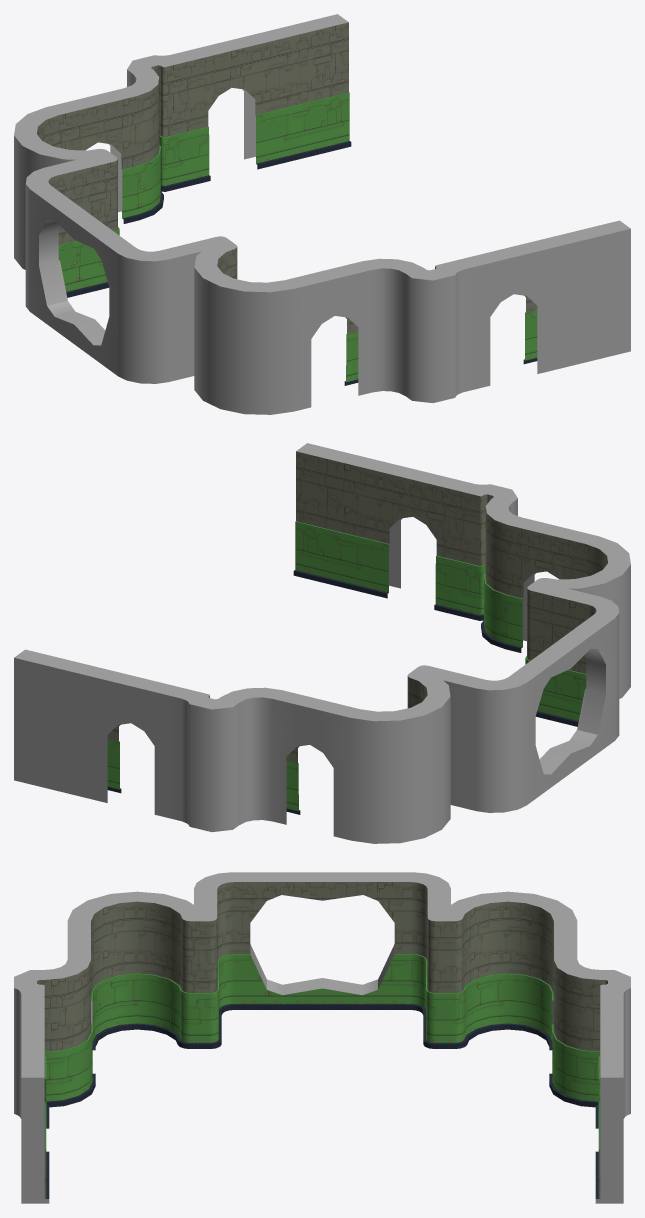
Rendered from Env_Cnt_CharSelectWalls.fbx.
3 views of the same model, one above another, from view 1: azimuth 30°, elevation 25°; view 2: azimuth 150°, elevation 25°; view 3: azimuth 270°, elevation 25° (orthographic). The views are drawn at different scales.
Parts seen in each view (by area): view 1: polySurface24; view 2: polySurface24; view 3: polySurface24.
Boxes of the visible parts, x1,y1,x2,y2 form: polySurface24: (14,14,630,414); polySurface24: (14,443,630,843); polySurface24: (14,872,630,1203).
Bounding box in the file's own units: 1050 × 300 × 1332.
